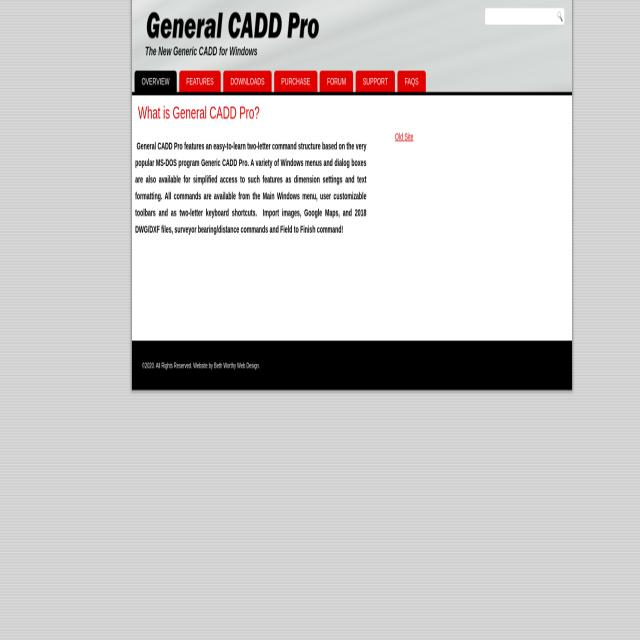button: (142, 1, 322, 48), (134, 70, 177, 96), (223, 70, 272, 92), (274, 70, 318, 92), (179, 70, 221, 92), (356, 70, 395, 92), (320, 70, 353, 92), (398, 70, 426, 92), (555, 8, 565, 26)
field: (485, 8, 565, 26)
